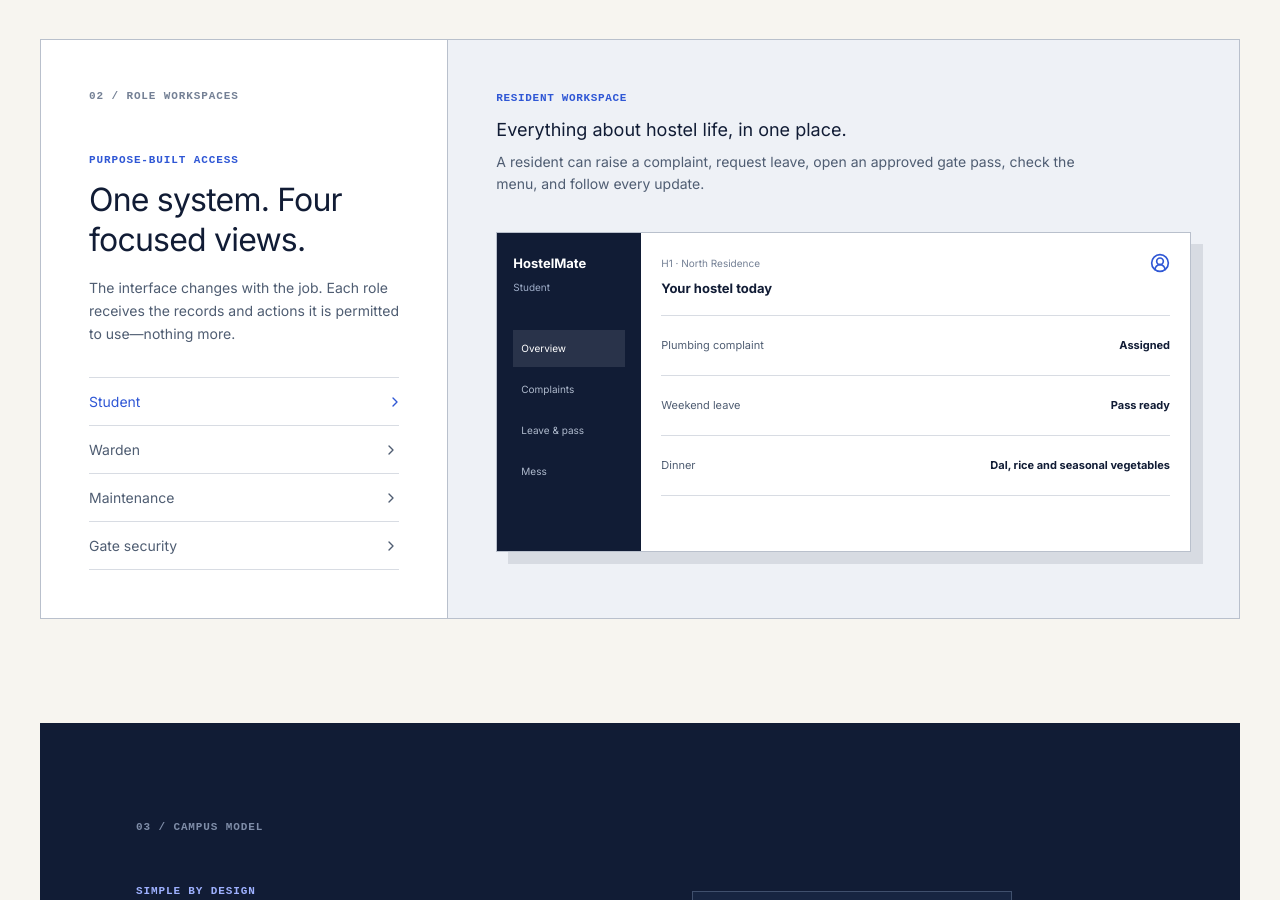
public landing page › changes the product preview when a role is selected
(page scrolled)
Expected: the element named "Student product preview" is shown, x1=496 y1=232 x2=1191 y2=552
Click the tab "Warden": (114, 450) x1=89 y1=426 x2=399 y2=474
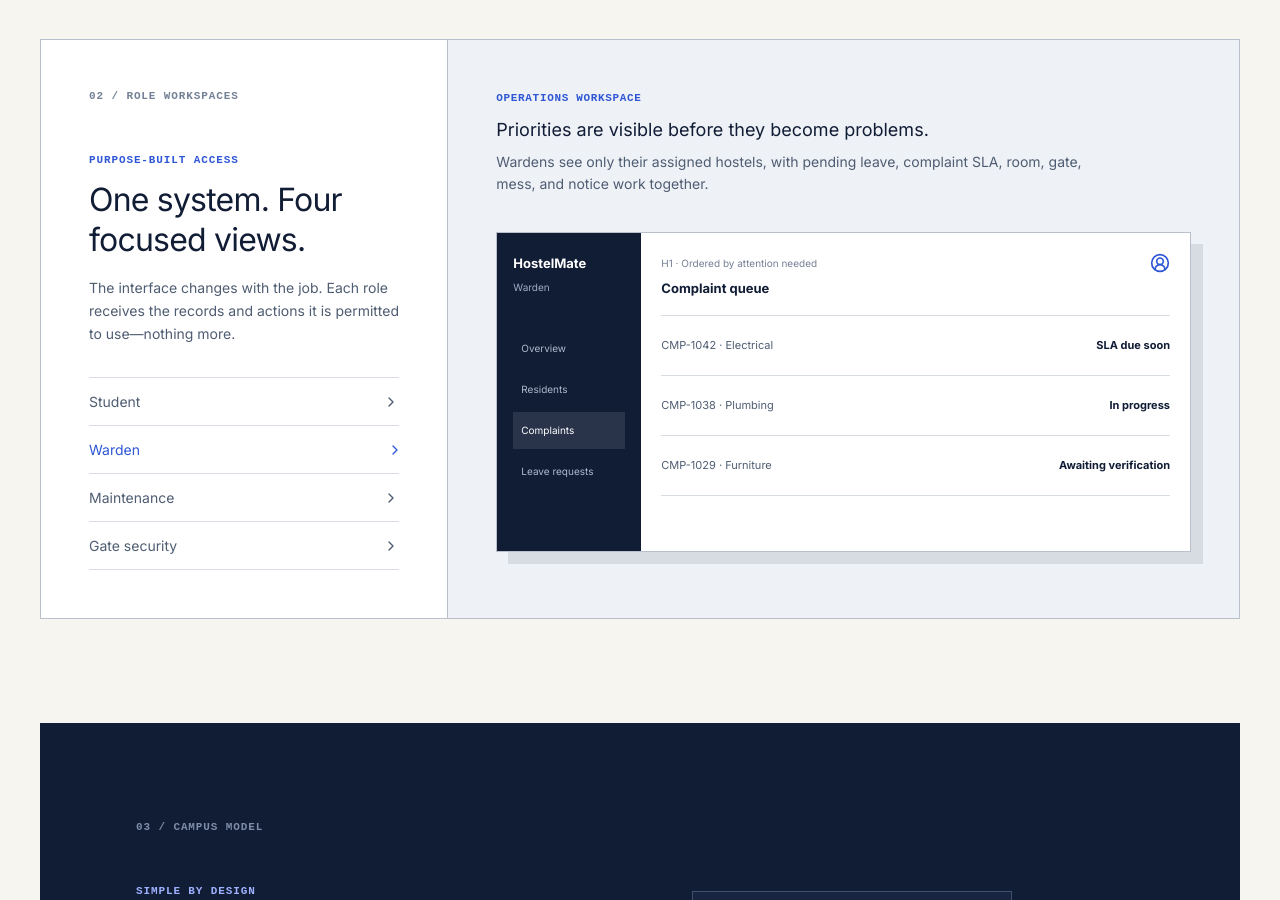
Expected: the element named "Warden product preview" is shown, x1=496 y1=232 x2=1191 y2=552
Expected: the text "Complaint queue" is shown, x1=661 y1=280 x2=769 y2=296
Press Arrowright
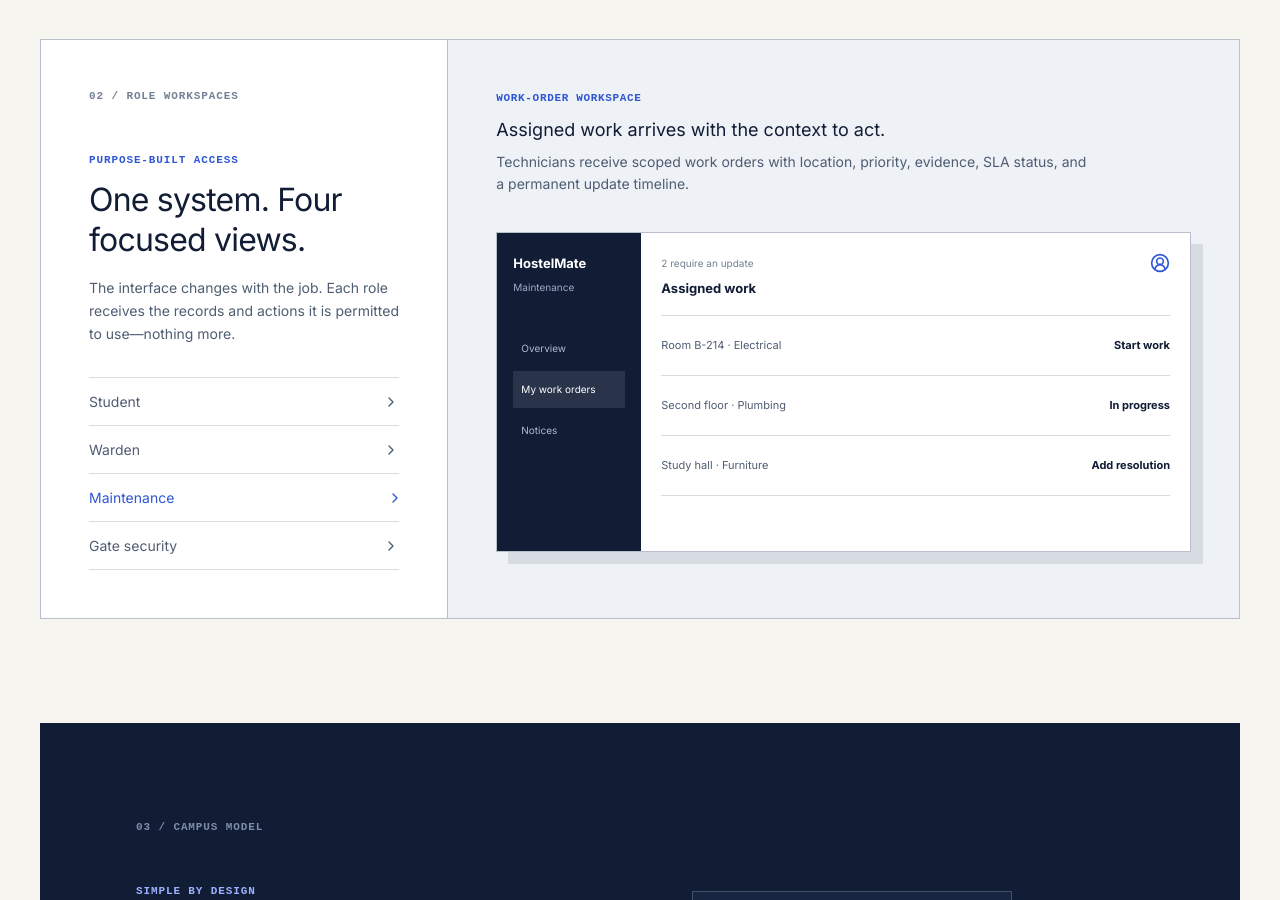
Expected: the element named "Maintenance product preview" is shown, x1=496 y1=232 x2=1191 y2=552
